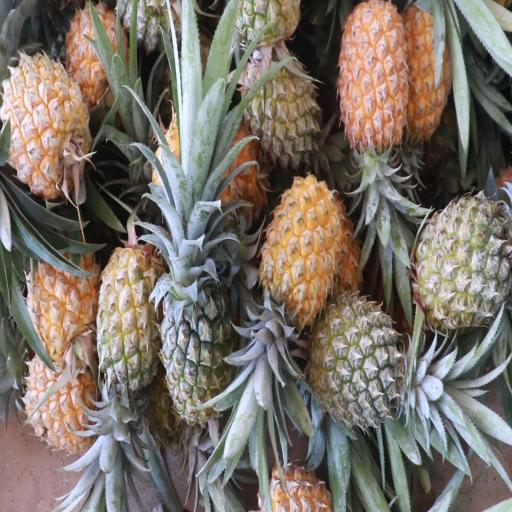------------------------------: (99, 243, 163, 415)
Pineapple - v8 v1: (341, 1, 412, 235), (268, 173, 339, 402), (0, 60, 99, 194), (21, 231, 102, 363), (64, 2, 134, 108), (408, 2, 457, 150), (22, 364, 99, 452)
